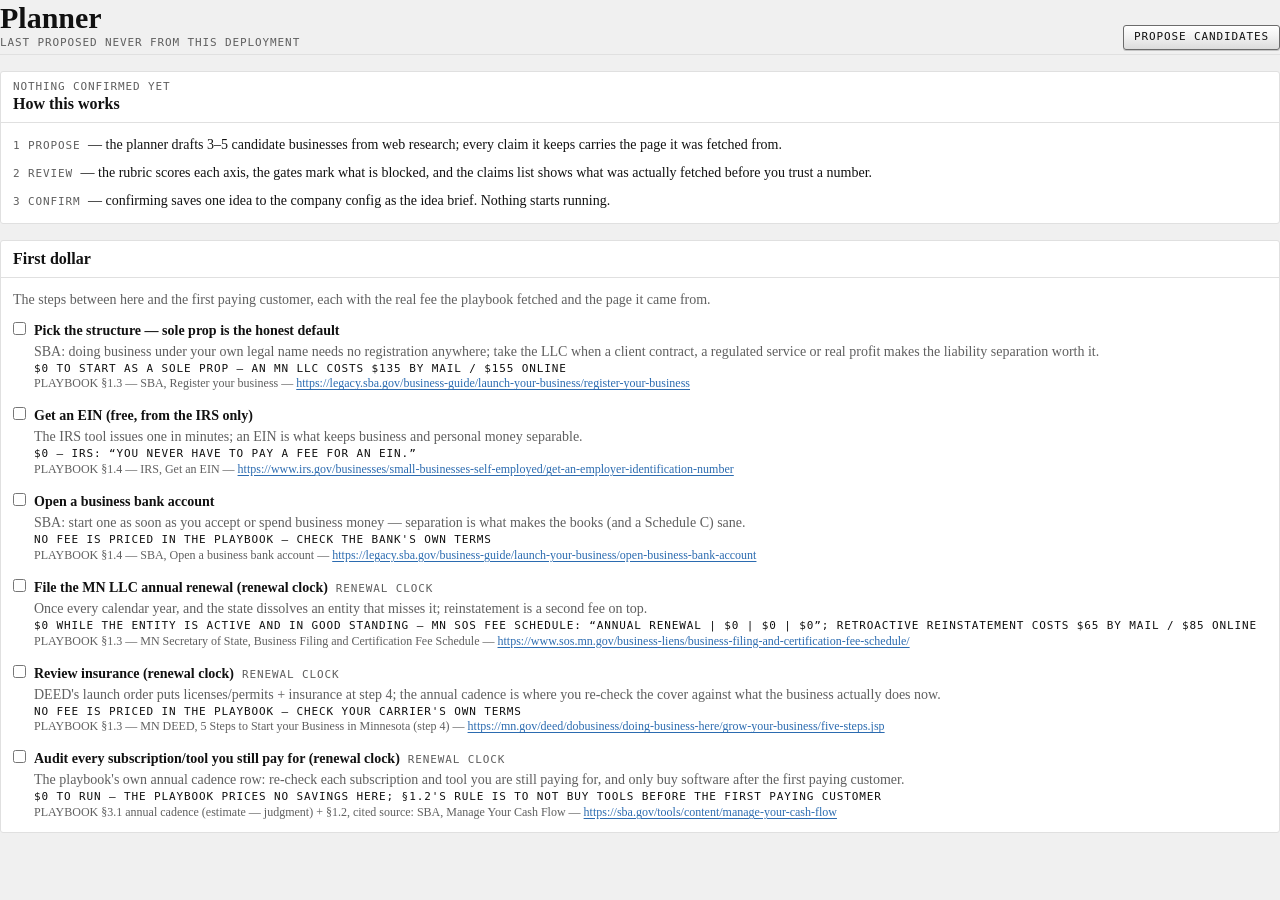
it: PlannerPage — propose › POSTs /planner/propose and renders every candidate with rubric, gates, claims and CONFIRM
Click the button with test id "planner-propose".
click(1202, 37)  # box [1123,25,1279,50]
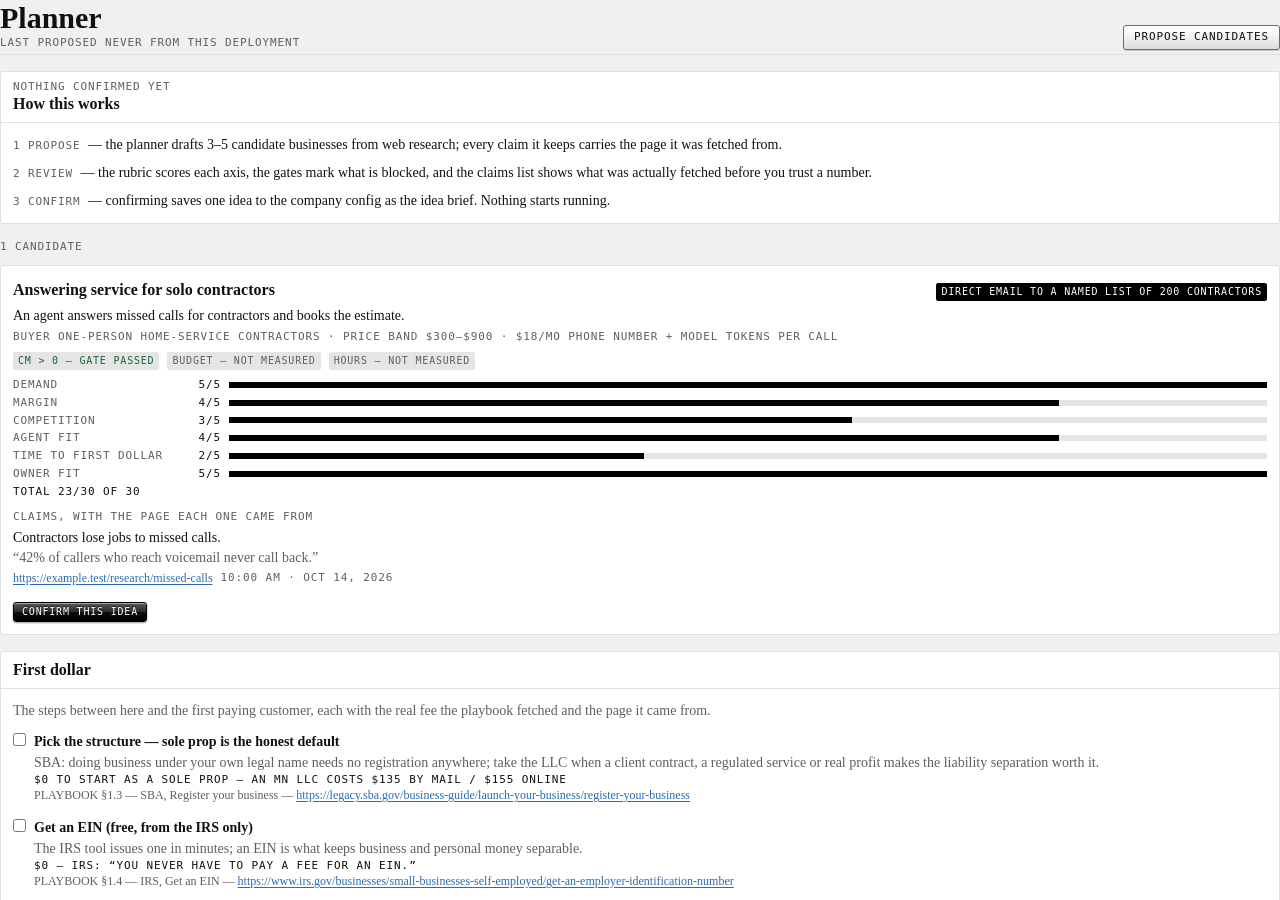
Expected: the element with test id "rubric-demand" shows "5/5", [198,378,221,391]
Expected: the element with test id "rubric-owner_fit" shows "5/5", [198,467,221,480]
Expected: the text with test id "rubric-total" shows "23/30", [58,484,96,498]
